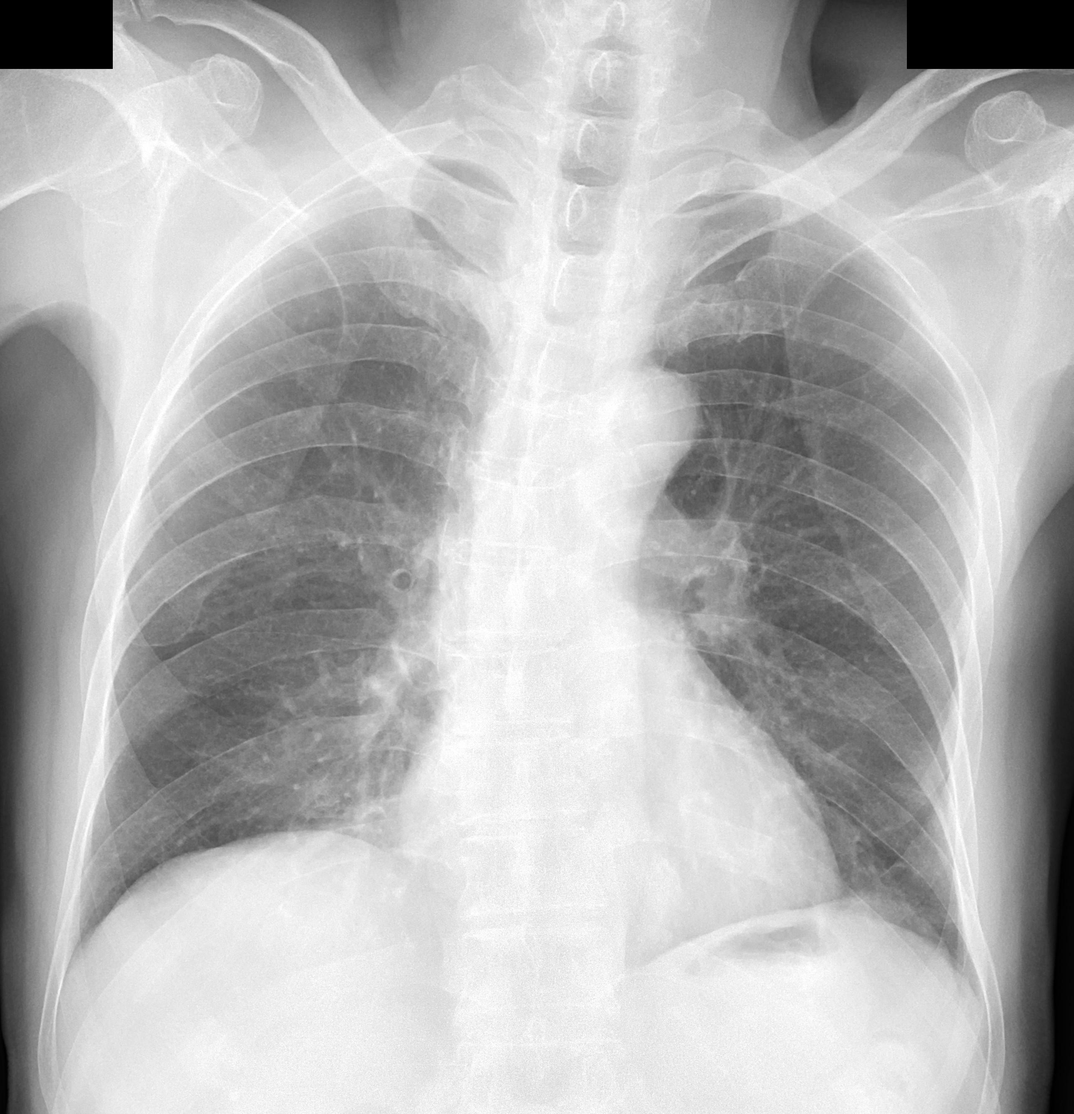Aortic enlargement: (584, 364, 706, 472)
